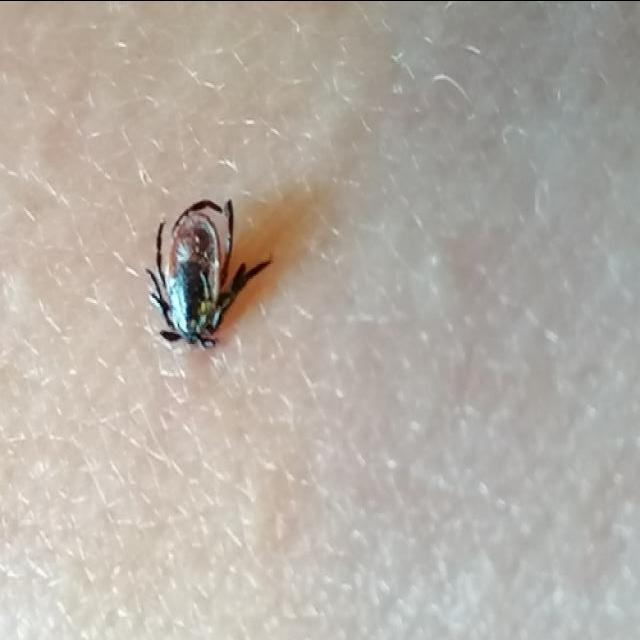Ixodes Ricinus-F: (146, 198, 274, 352)
